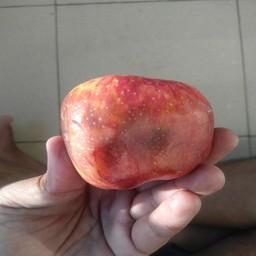Bad_apple: (56, 75, 222, 190)
